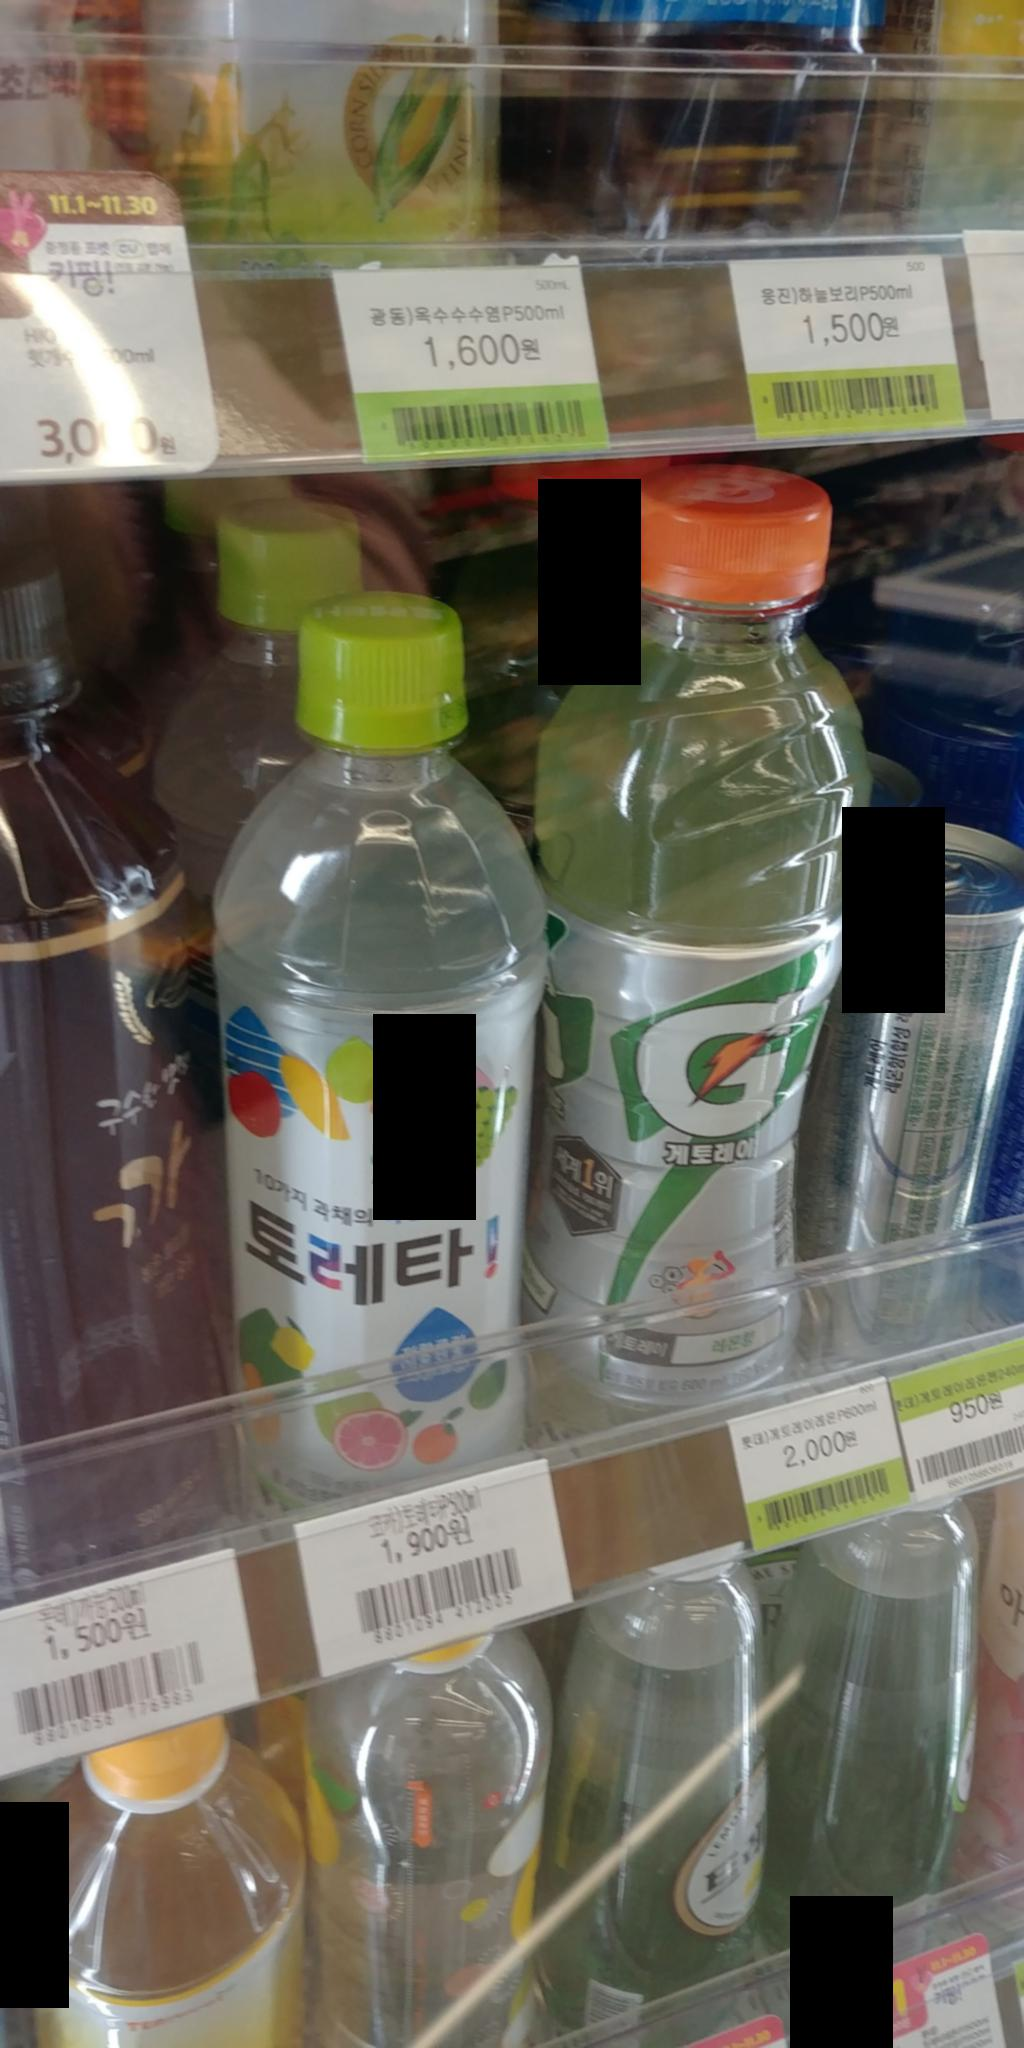gatorade_lemon: (528, 451, 869, 1417)
toreta: (193, 584, 581, 1498)
